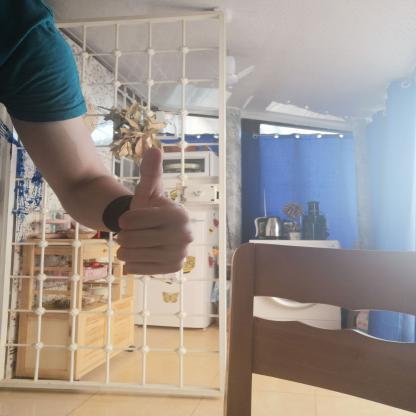ALIF: (103, 134, 201, 287)
